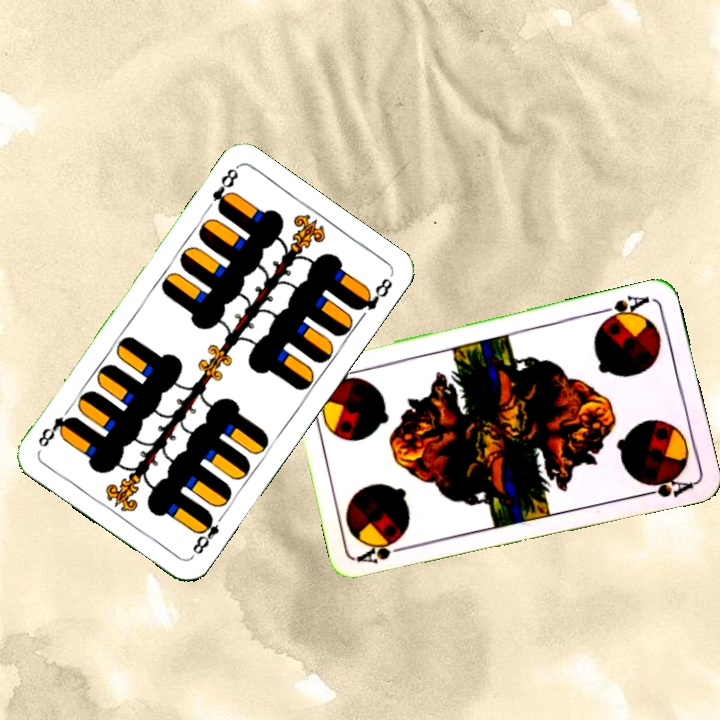E8: (188, 507, 228, 557), (208, 163, 241, 216)
SA: (595, 291, 652, 326), (354, 536, 413, 567)
